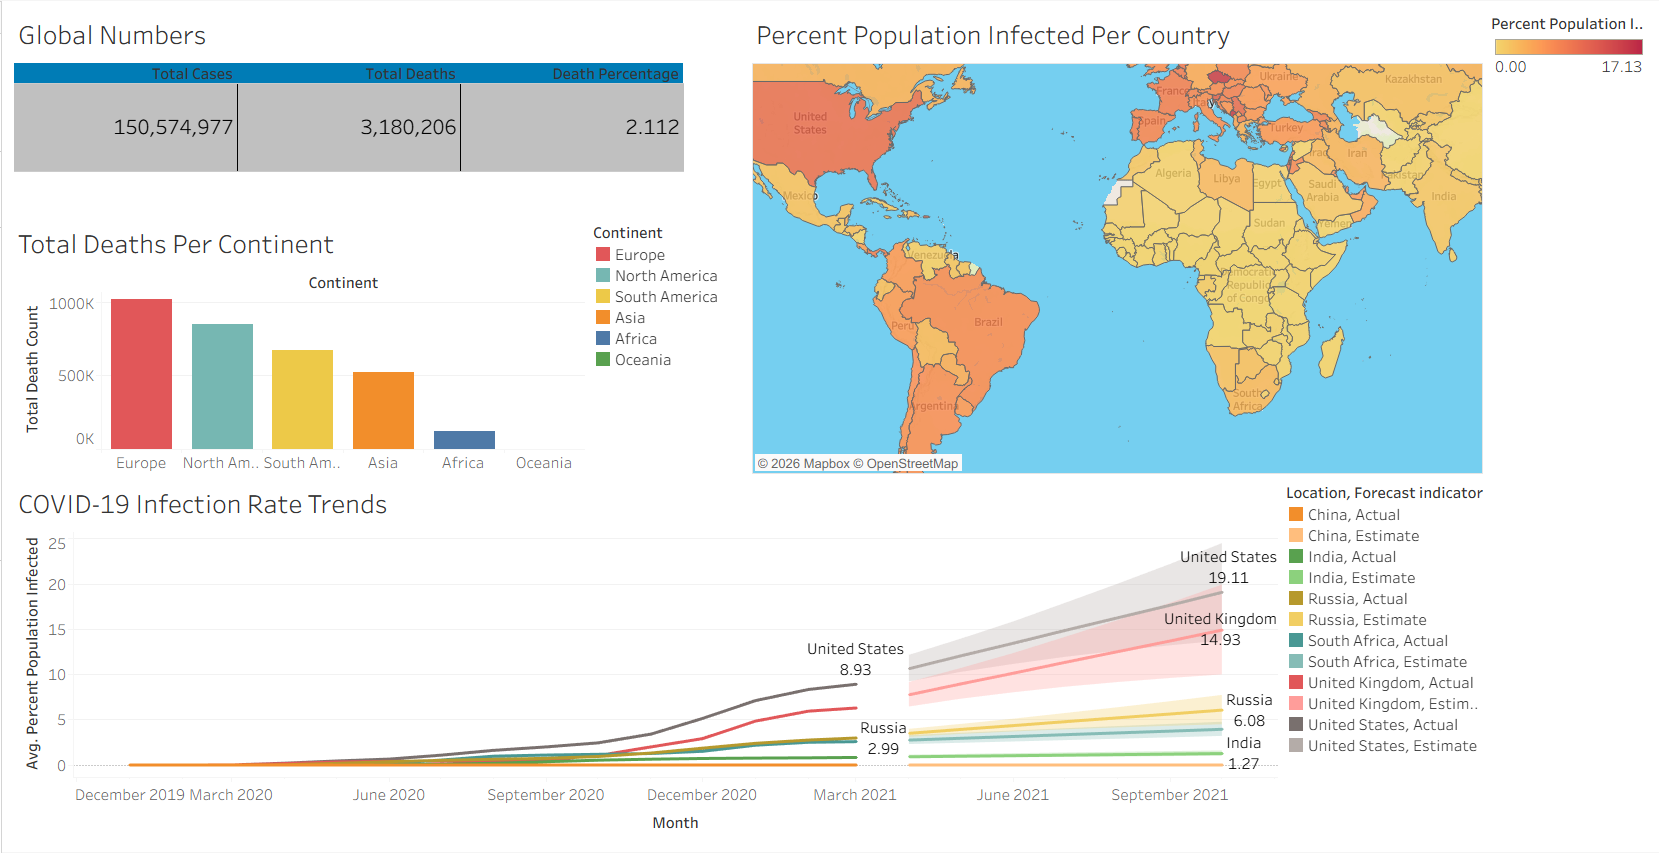

Layout of this report page (visuals, bound fields, positions):
{"tool":"tableau","page":{"name":"Dashboard 1","canvas":[1000,1000],"units":"permille","ordinal":0},"visuals":[{"type":"worksheet","title":"Sheet 1","mark":"Automatic","box":[4.8,9.4,445.7,245.3]},{"type":"worksheet","title":"Sheet 3","mark":"Automatic","box":[450.5,9.4,445.7,551.1]},{"type":"legend","title":"Sheet 3","param":"[federated.0casg8m18t87q21dtfhqc1r6y7ka].[sum:PercentPopulationInfected:qk]","box":[896.2,9.4,99,85.8]},{"type":"worksheet","title":"Sheet 2","mark":"Automatic","rows":["TotalDeathCount"],"cols":["Location"],"box":[4.8,254.7,349.4,305.8]},{"type":"legend","title":"Sheet 2","param":"[federated.19cqcq21d56oqo1bvzmvg1gcpza5].[none:Location:nk]","box":[354.2,254.7,96.3,305.8]},{"type":"worksheet","title":"Sheet 4","mark":"Automatic","rows":["PercentPopulationInfected"],"cols":["Date"],"box":[4.8,560.5,767.8,430.1]},{"type":"legend","title":"Sheet 4","param":"[federated.1sjzsn212isz6u11gpr1q0upyxp9].[none:Location:nk]\n[federated.1sjzsn212","box":[772.6,560.5,123.6,430.1]}]}

Visuals, with their boxes on the dashboard's canvas, which has no fixed pixel size, in thousandths of its width and height (x1, y1, x2, y2). These are canvas units, not pixel positions in the 1659x853 screenshot, which may show the page scaled, cropped or inside an application window:
"Sheet 1" worksheet: <region>5, 9, 450, 255</region>
"Sheet 3" worksheet: <region>450, 9, 896, 560</region>
"Sheet 3" legend: <region>896, 9, 995, 95</region>
"Sheet 2" worksheet: <region>5, 255, 354, 560</region>
"Sheet 2" legend: <region>354, 255, 450, 560</region>
"Sheet 4" worksheet: <region>5, 560, 773, 991</region>
"Sheet 4" legend: <region>773, 560, 896, 991</region>
